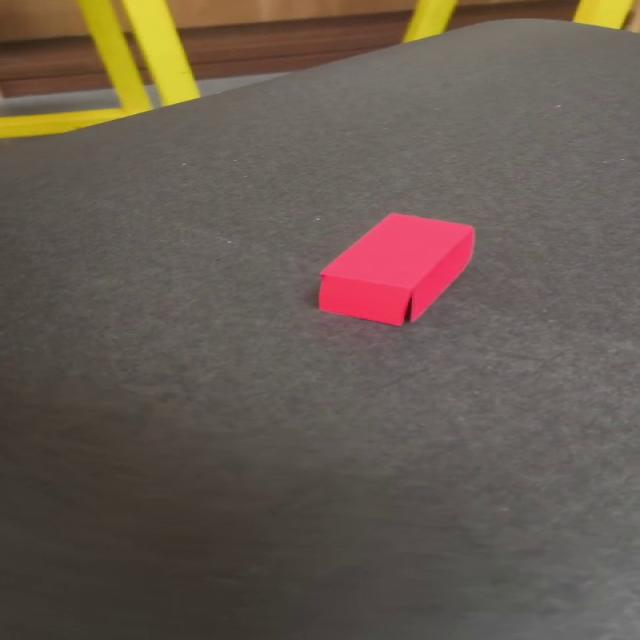red block: (316, 211, 475, 327)
